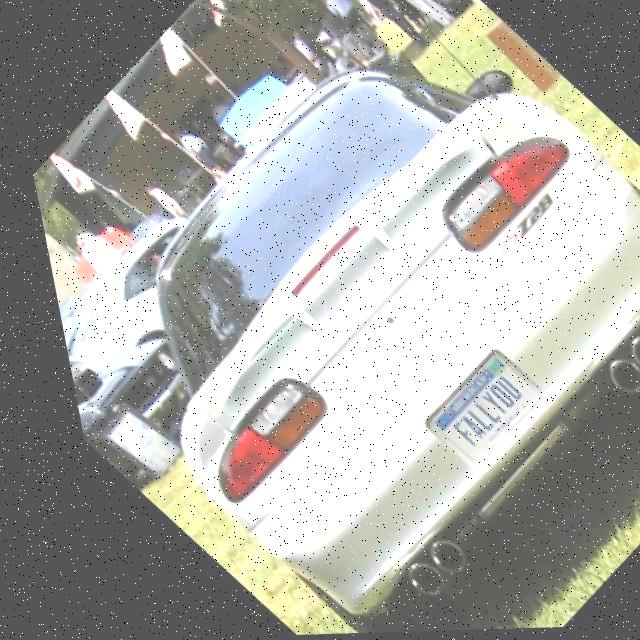license_plate: (403, 356, 538, 471)
